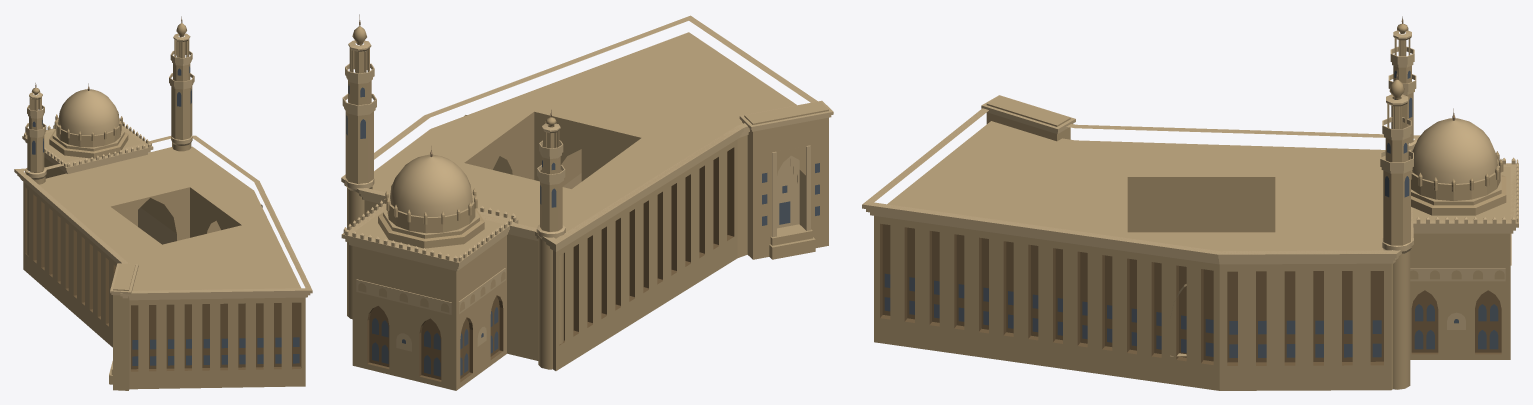
File: cairo-sultan-hassan-mosque.glb
3 views of the same model, side by side, from view 1: azimuth 30°, elevation 25°; view 2: azimuth 150°, elevation 25°; view 3: azimuth 270°, elevation 25° (orthographic). The views are drawn at different scales.
Visible parts, largest first — view 1: Mosque-Madrasa of Sultan Hasan; view 2: Mosque-Madrasa of Sultan Hasan; view 3: Mosque-Madrasa of Sultan Hasan.
Boxes of the visible parts, x1=… form: Mosque-Madrasa of Sultan Hasan: x1=14, y1=16, x2=312, y2=390; Mosque-Madrasa of Sultan Hasan: x1=341, y1=14, x2=833, y2=390; Mosque-Madrasa of Sultan Hasan: x1=862, y1=16, x2=1518, y2=390.
Bounding box in the file's own units: 89.28 × 84 × 158.
